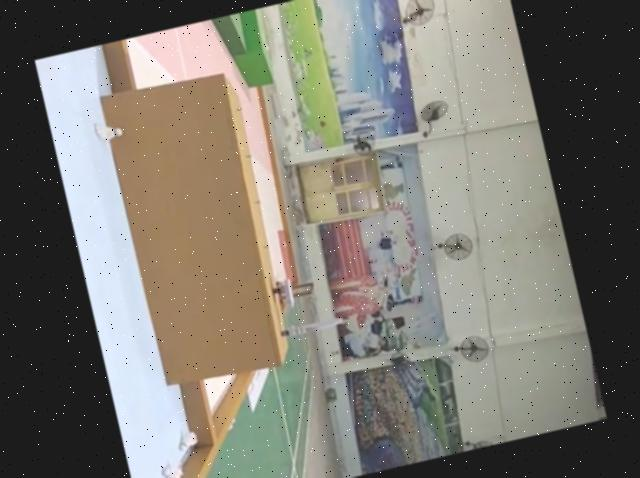Hand: (269, 281, 297, 312)
Sph: (277, 314, 344, 341)
